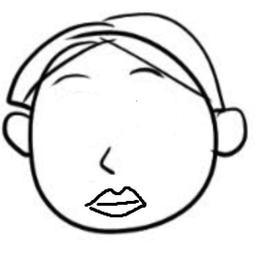cupid_mouth: (78, 184, 152, 220)
ear: (214, 105, 249, 159), (0, 110, 35, 161)
eyebrow: (50, 73, 93, 87), (126, 66, 169, 80)
pointy_nose: (96, 145, 124, 181)
